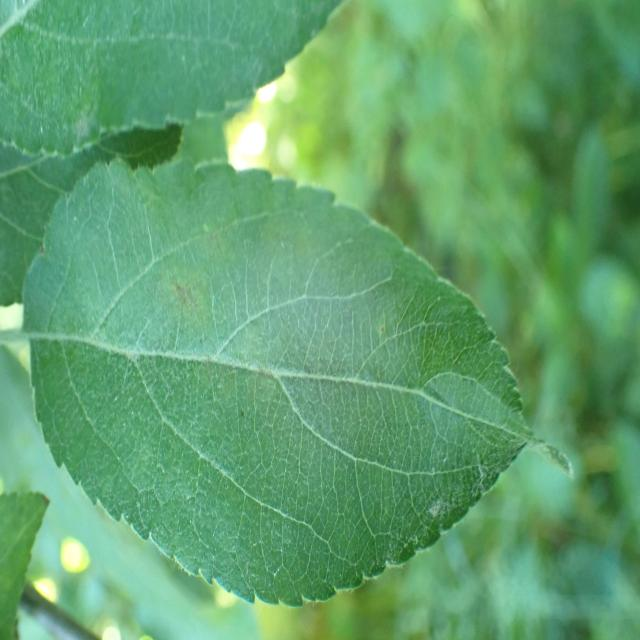scab: (120, 192, 503, 474)
